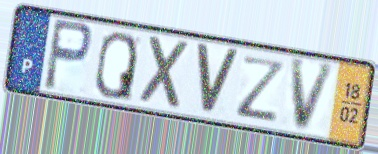P: (41, 16, 94, 94)
Q: (92, 30, 139, 104)
V: (288, 57, 339, 133), (194, 40, 242, 119)
X: (138, 32, 194, 113)
Z: (236, 53, 289, 125)
